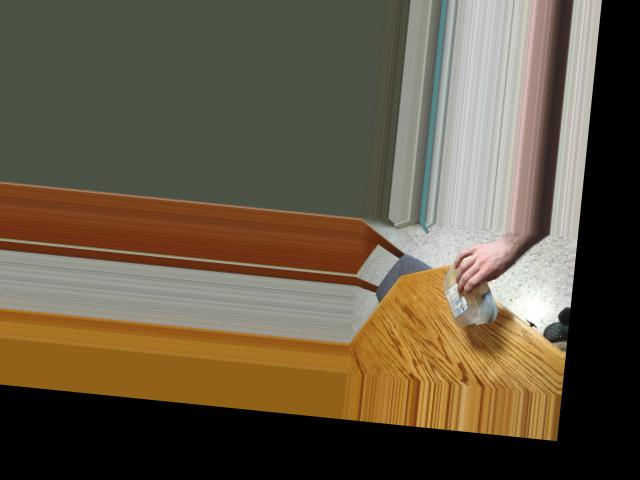cheese: (447, 263, 495, 326)
